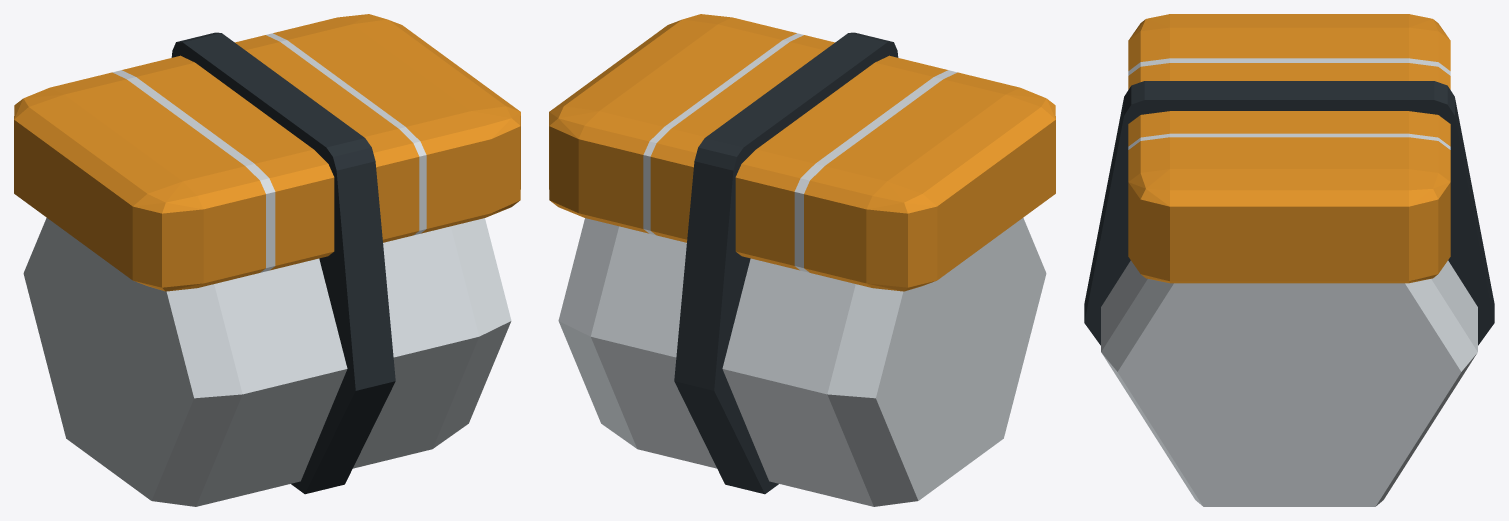
Rendered from Sashimi.obj.
3 renders of one model, left to right at view 1: azimuth 30°, elevation 25°; view 2: azimuth 150°, elevation 25°; view 3: azimuth 270°, elevation 25°, orthographic.
Visible parts, largest first — view 1: Cube.061, Cylinder.018, Cylinder.049; view 2: Cube.061, Cylinder.018, Cylinder.049; view 3: Cube.061, Cylinder.018, Cylinder.049.
Part boxes in pixels (<box>): Cube.061: <box>14,14,520,291</box>; Cylinder.018: <box>23,218,511,506</box>; Cylinder.049: <box>171,32,395,494</box>; Cube.061: <box>549,14,1055,291</box>; Cylinder.018: <box>558,218,1046,506</box>; Cylinder.049: <box>674,32,898,494</box>; Cube.061: <box>1128,14,1450,283</box>; Cylinder.018: <box>1101,260,1477,506</box>; Cylinder.049: <box>1084,81,1494,345</box>.
Bounding box in the file's own units: 1.9 × 1.69 × 1.73.
Materials: 1 (1 with a texture image).
